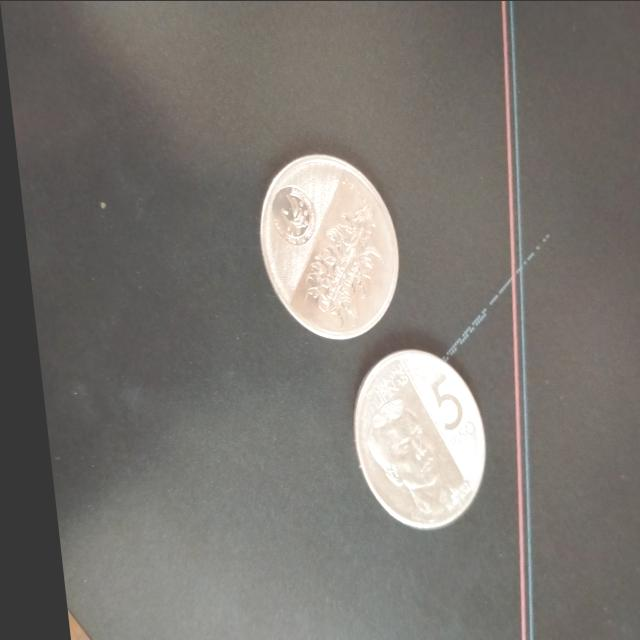5_New_Back: (286, 198, 390, 334)
5_New_Front: (415, 366, 476, 452)
